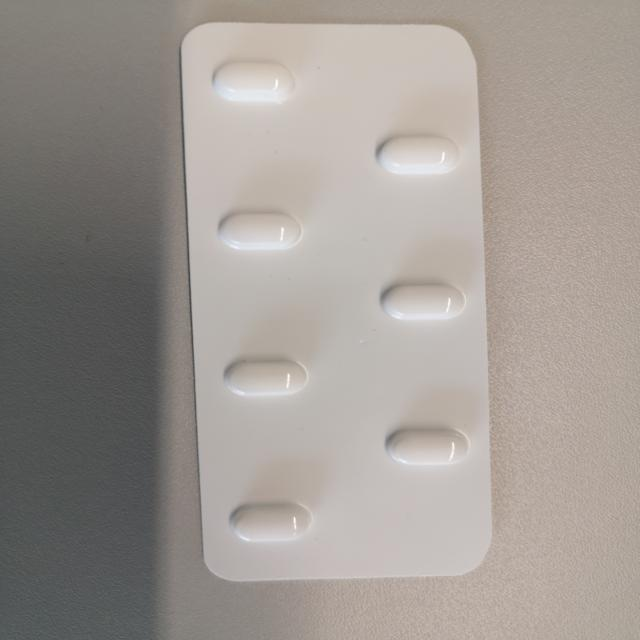Pill: (200, 52, 318, 113), (351, 271, 471, 329), (213, 490, 322, 550), (359, 126, 478, 180), (374, 413, 482, 472), (211, 350, 316, 405), (202, 202, 312, 254)
